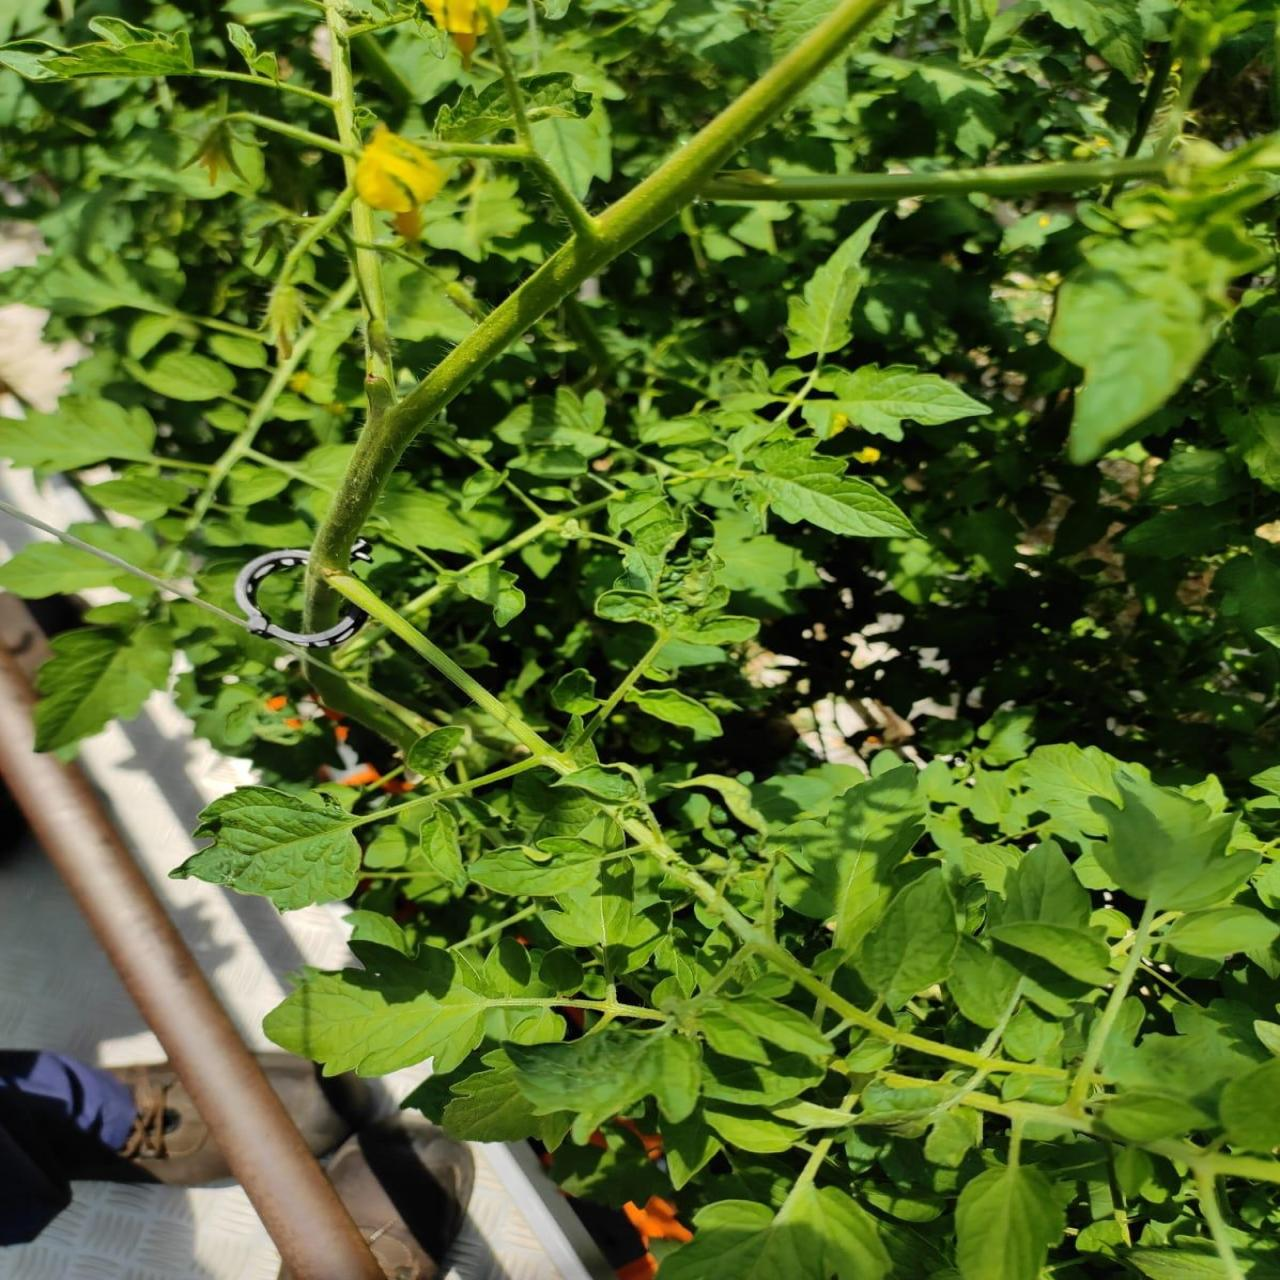T_L_H: (265, 944, 496, 1077), (173, 789, 370, 910), (750, 441, 917, 539)
T_S_H: (359, 1, 890, 490), (38, 624, 171, 751)
